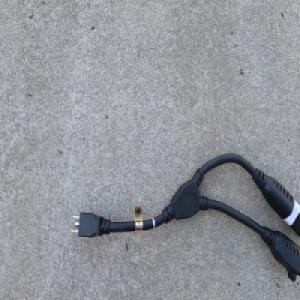Wire: (70, 151, 300, 284)
